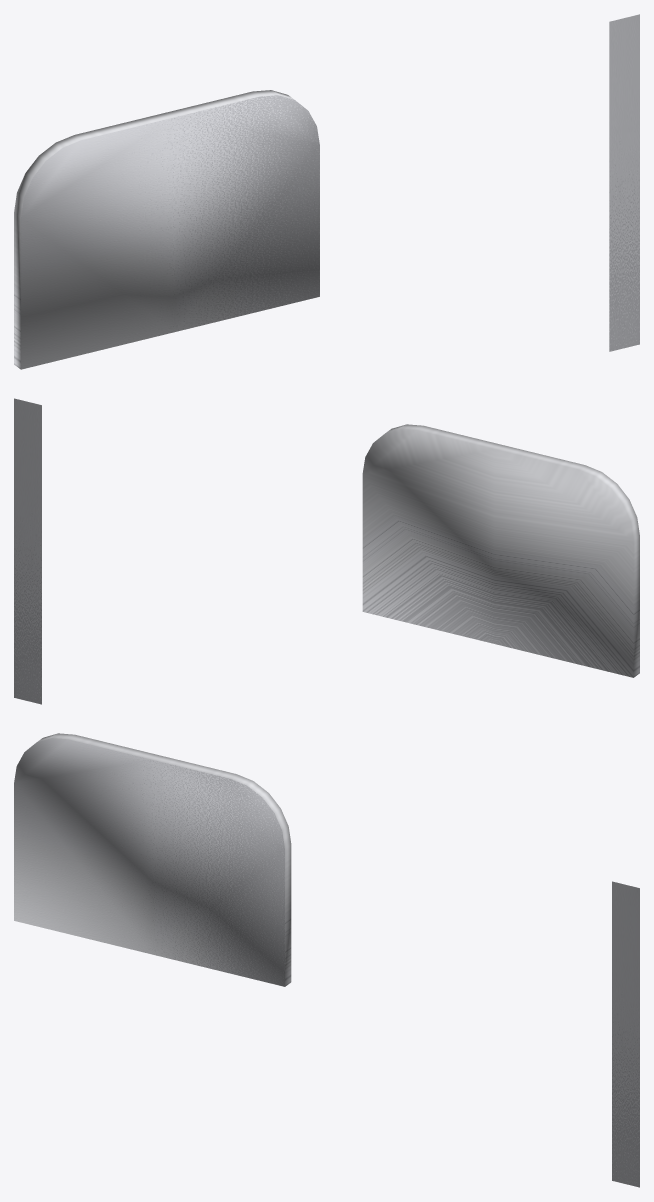
File: vidrio2.obj
3 views of the same model, one above another, from view 1: azimuth 30°, elevation 25°; view 2: azimuth 150°, elevation 25°; view 3: azimuth 330°, elevation 25° (orthographic). The views are drawn at different scales.
Visible parts, largest first — view 1: Puerta.002; view 2: Puerta.002; view 3: Puerta.002.
Part boxes in pixels (box(x1,y1,x2,y2)): Puerta.002: box(14, 14, 639, 369); Puerta.002: box(14, 398, 639, 704); Puerta.002: box(14, 733, 639, 1187).
Size of the model in its own units: 10.75 by 5.89 by 1.01.
Materials: 1 (1 with a texture image).
